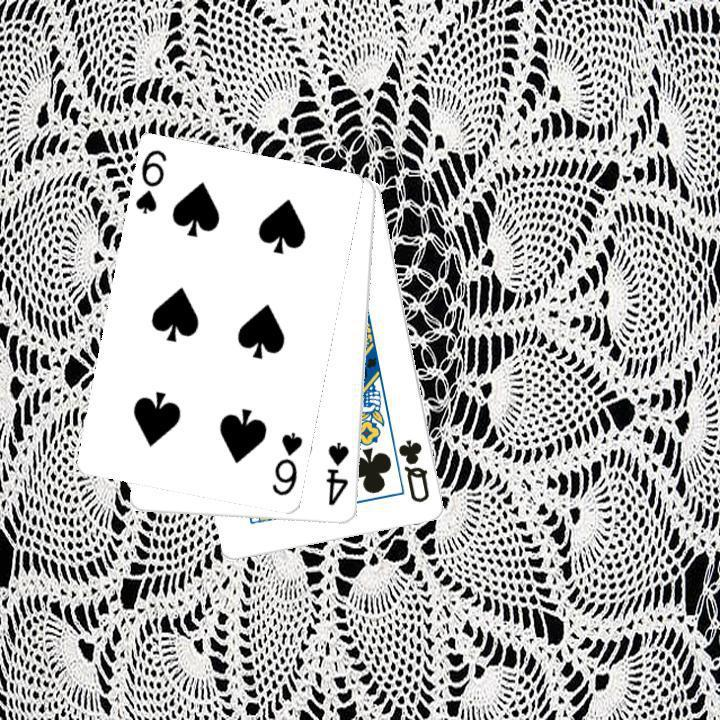4: (322, 438, 352, 508)
6: (131, 146, 169, 217), (268, 428, 305, 498)
Q: (394, 435, 432, 505)
